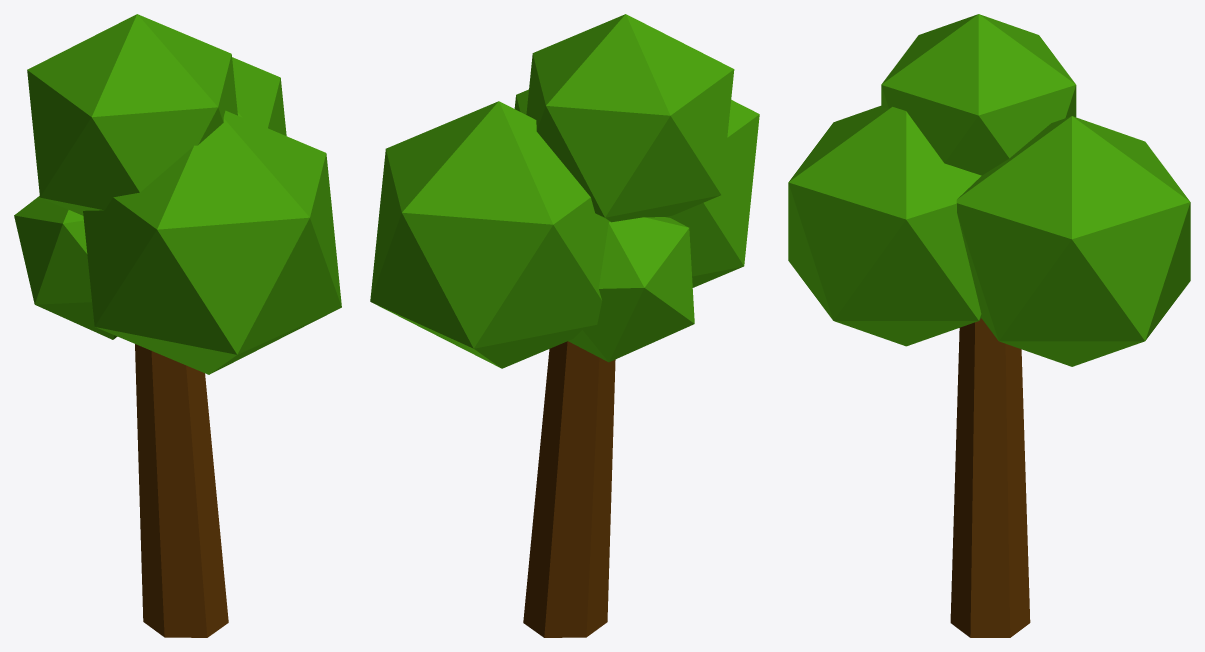
Rendered from bigtree.gltf.
3 views of the same model, side by side, from view 1: azimuth 30°, elevation 25°; view 2: azimuth 150°, elevation 25°; view 3: azimuth 270°, elevation 25° (orthographic). The views are drawn at different scales.
Parts seen in each view (by area): view 1: tree_4_Cylinder.006; view 2: tree_4_Cylinder.006; view 3: tree_4_Cylinder.006.
Part boxes in pixels (x1,y1,x2,y2): tree_4_Cylinder.006: [14, 14, 341, 637]; tree_4_Cylinder.006: [370, 14, 759, 637]; tree_4_Cylinder.006: [788, 14, 1190, 637].
Size of the model in its own units: 4.4 by 9.07 by 5.66.
